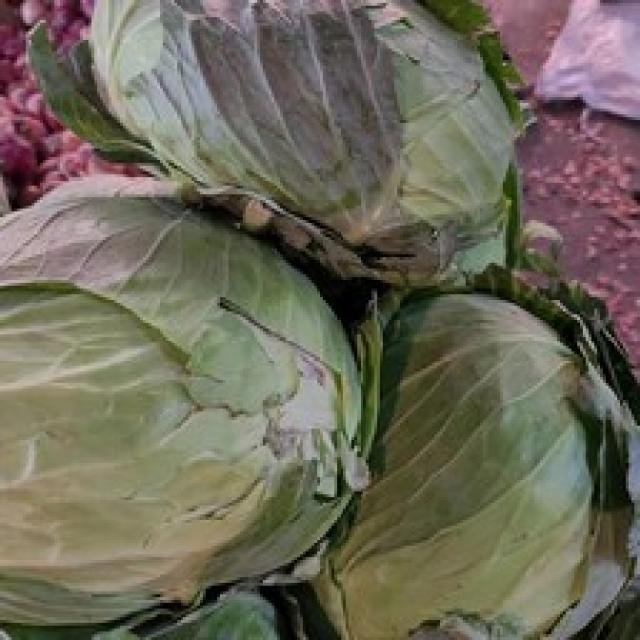Cabbage: (0, 171, 371, 628), (23, 0, 531, 289), (306, 269, 637, 637)
